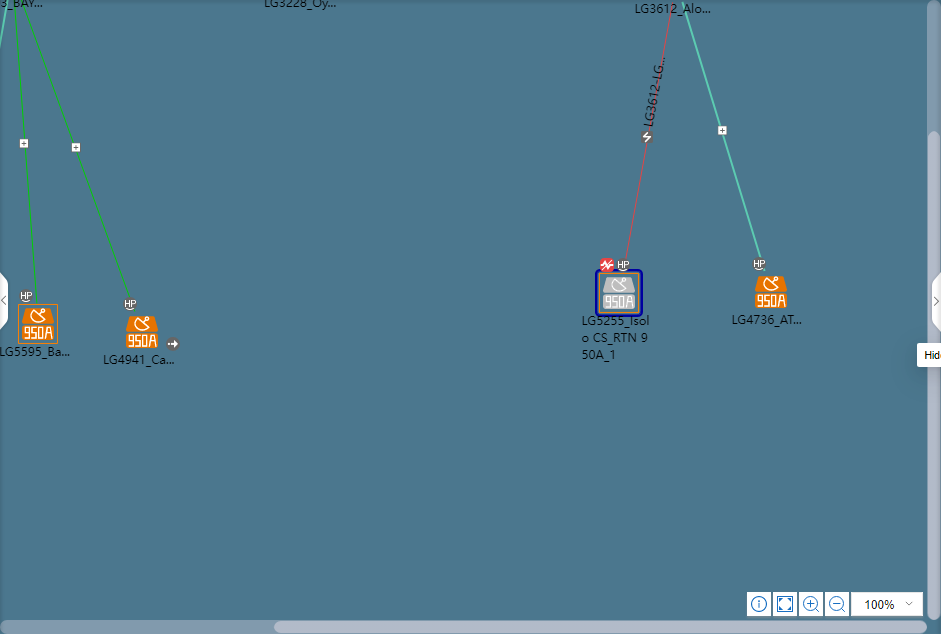Link_Blue: (679, 1, 768, 274), (0, 0, 9, 48)
Link_Green: (19, 0, 137, 310), (12, 1, 38, 304)
Link_Red: (621, 3, 677, 271)
RTN_Gray: (600, 275, 636, 311)
RTN_Orange: (19, 306, 56, 341), (126, 317, 157, 348), (755, 277, 786, 308)
